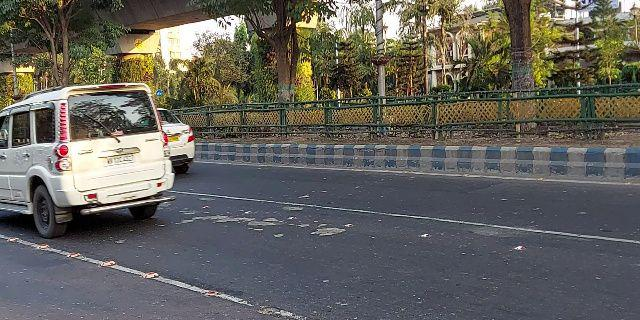Car: (1, 82, 177, 238), (152, 107, 202, 178)
